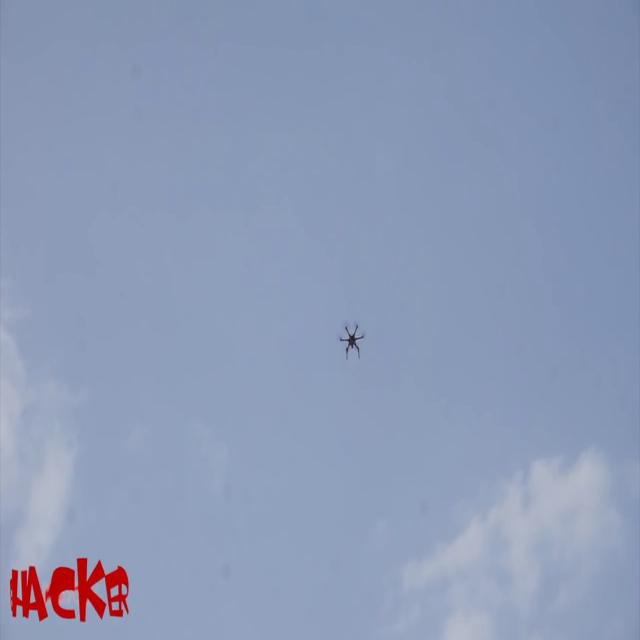drone: (340, 319, 363, 361)
